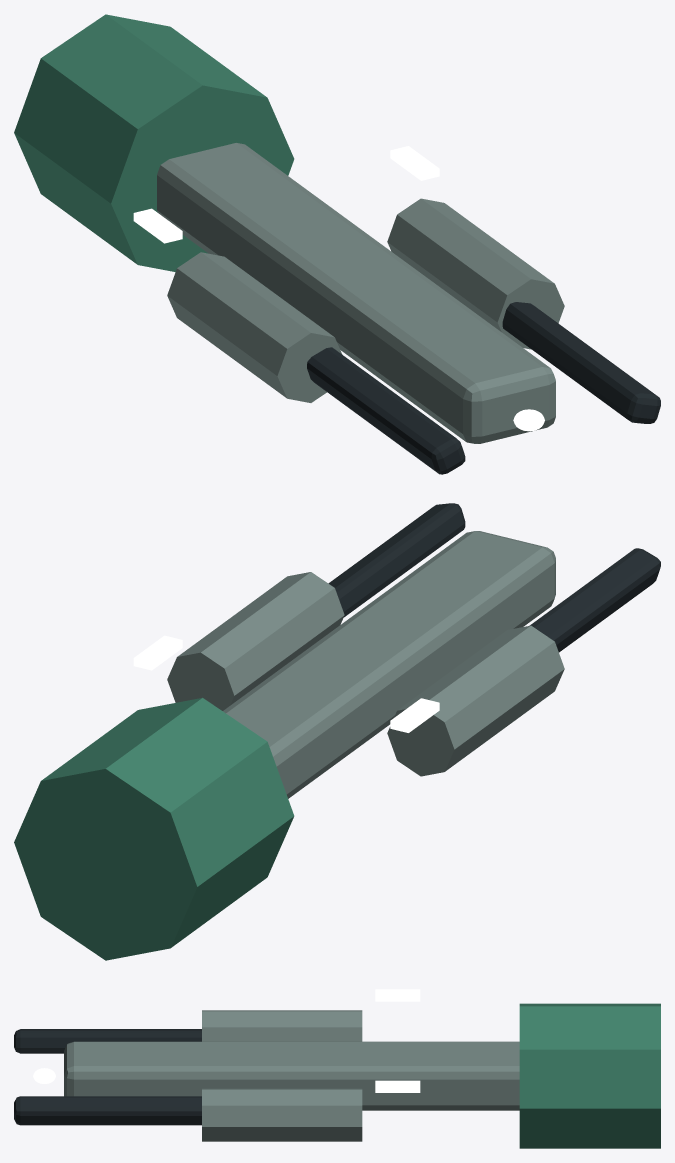
3 renders of one model, top to bottom at view 1: azimuth 30°, elevation 25°; view 2: azimuth 150°, elevation 25°; view 3: azimuth 270°, elevation 25°, orthographic. The views are drawn at different scales.
Parts seen in each view (by area): view 1: RIMWARD_HULL, RIMWARD_EMISSIVE; view 2: RIMWARD_HULL, RIMWARD_EMISSIVE; view 3: RIMWARD_HULL, RIMWARD_EMISSIVE, RIMWARD_ENGINE_GLOW.
Part boxes in pixels (<box>): RIMWARD_HULL: <box>14,14,660,474</box>; RIMWARD_EMISSIVE: <box>133,146,439,243</box>; RIMWARD_HULL: <box>14,503,660,960</box>; RIMWARD_EMISSIVE: <box>133,635,439,732</box>; RIMWARD_HULL: <box>14,1003,660,1148</box>; RIMWARD_EMISSIVE: <box>375,989,420,1092</box>; RIMWARD_ENGINE_GLOW: <box>33,1068,55,1083</box>.
Size of the model in its own units: 2.71 by 1.73 by 7.25.
